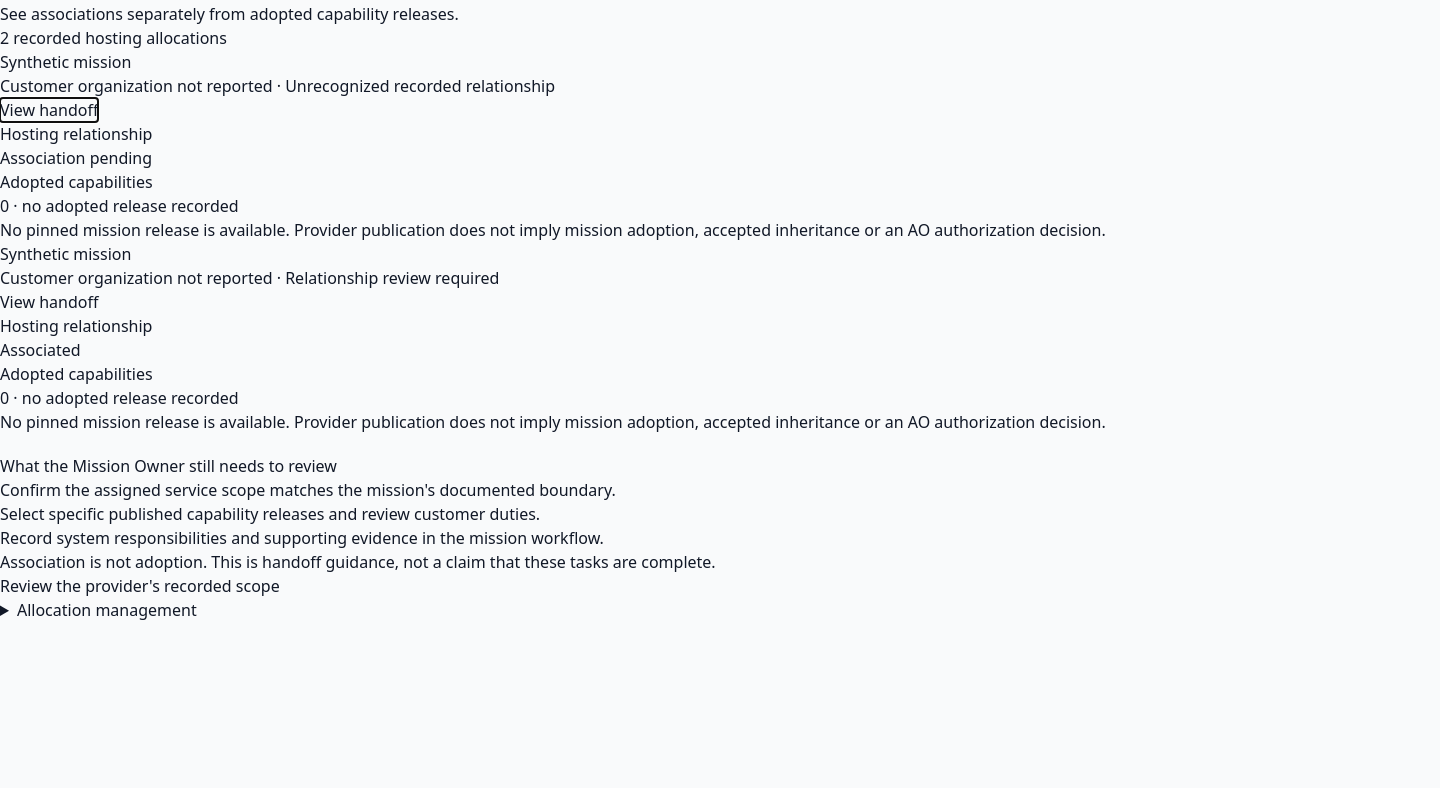
Test case: uses allocation totals, not invented associated-system totals, and keeps duplicate names tied to exact assignments
This screenshot has width=1440, height=788.
Expected: the text "2 recorded hosting allocations" is shown, [0,27,227,49]
Click the button with aria-label "View handoff for Synthetic mission" at [49, 110], box [0,98,98,122]
(page scrolled)
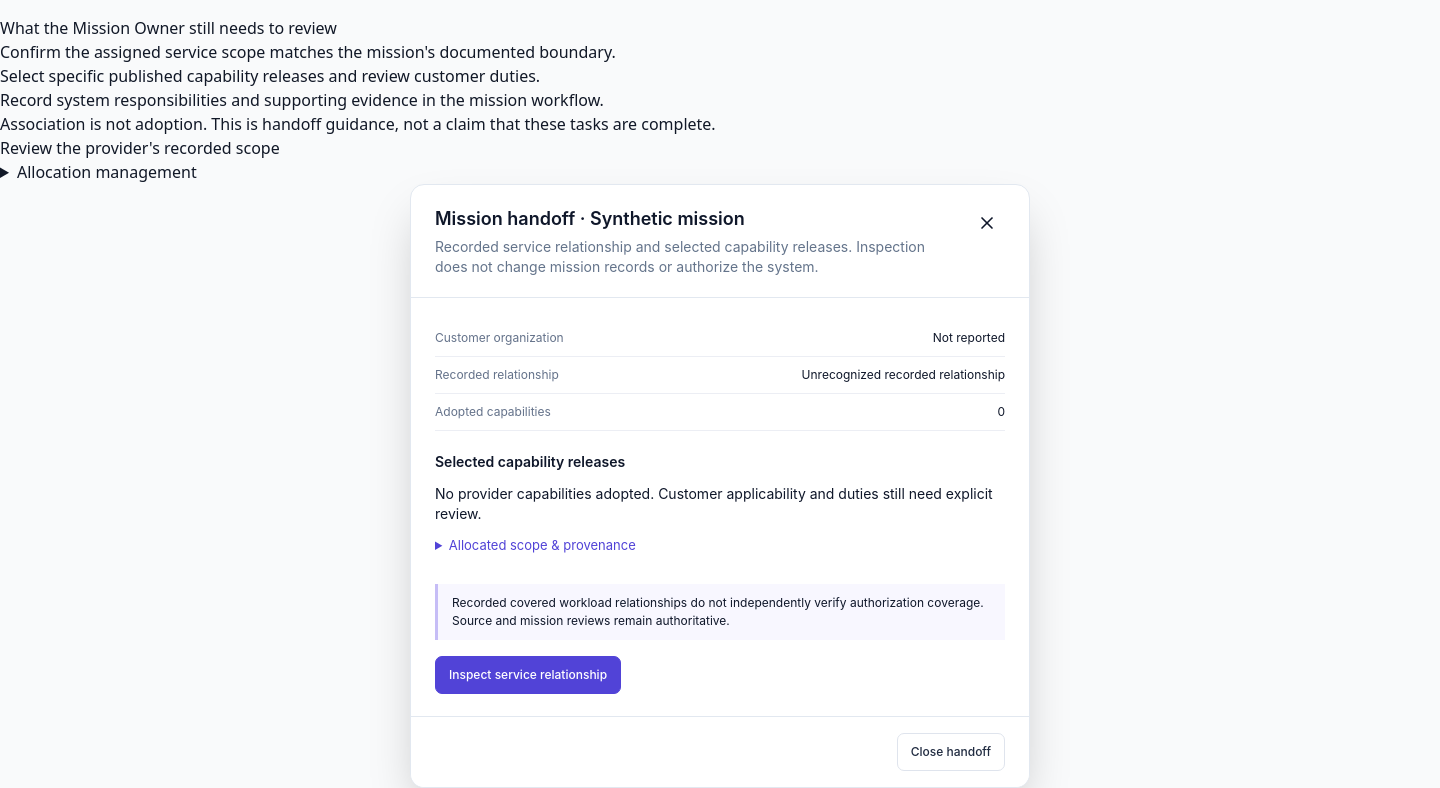
Now the text "Unrecognized recorded relationship" is shown, box [802,367,1005,382]
Click the button "Close handoff" at [951, 752], box [897,732,1005,770]
(page scrolled)
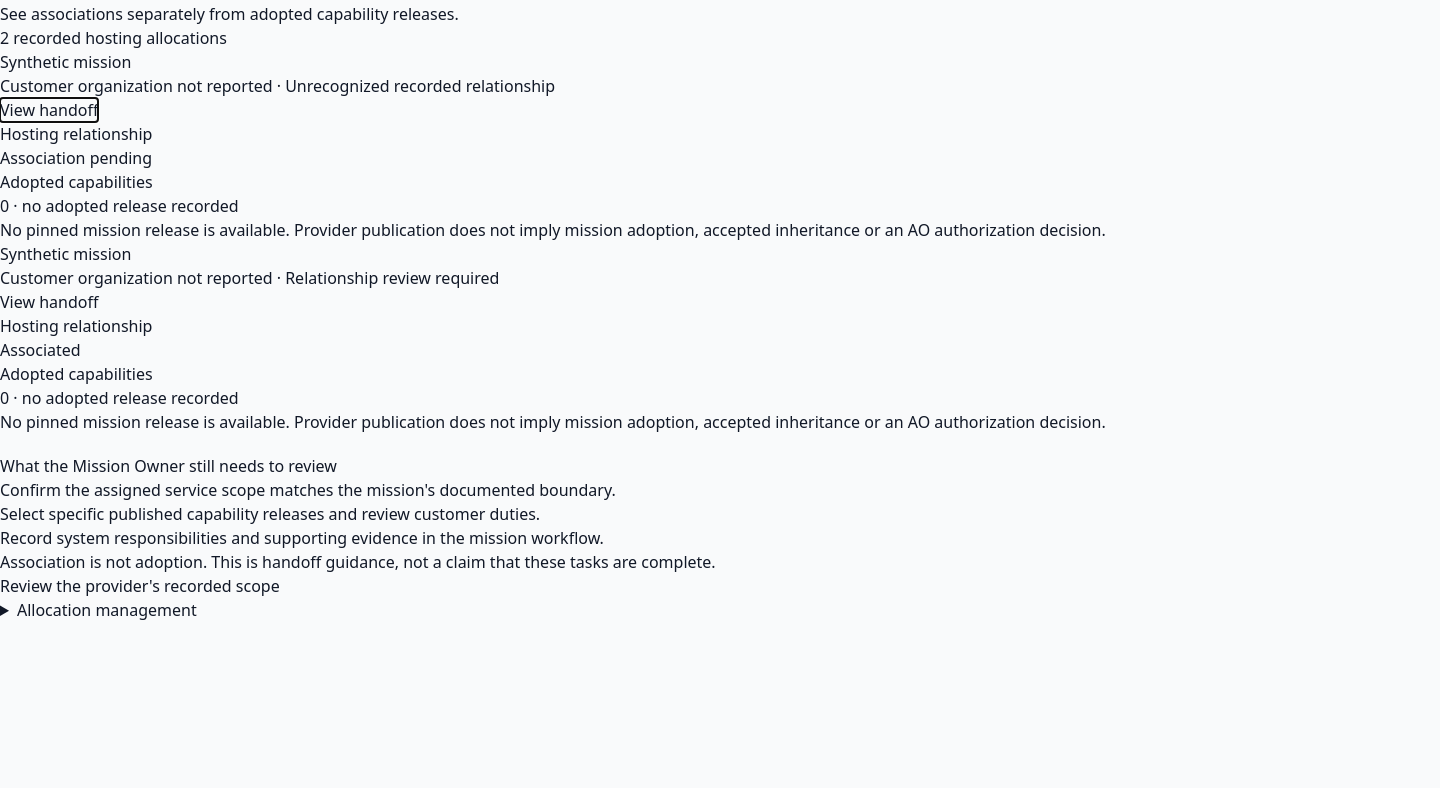
Now the dialog is gone
